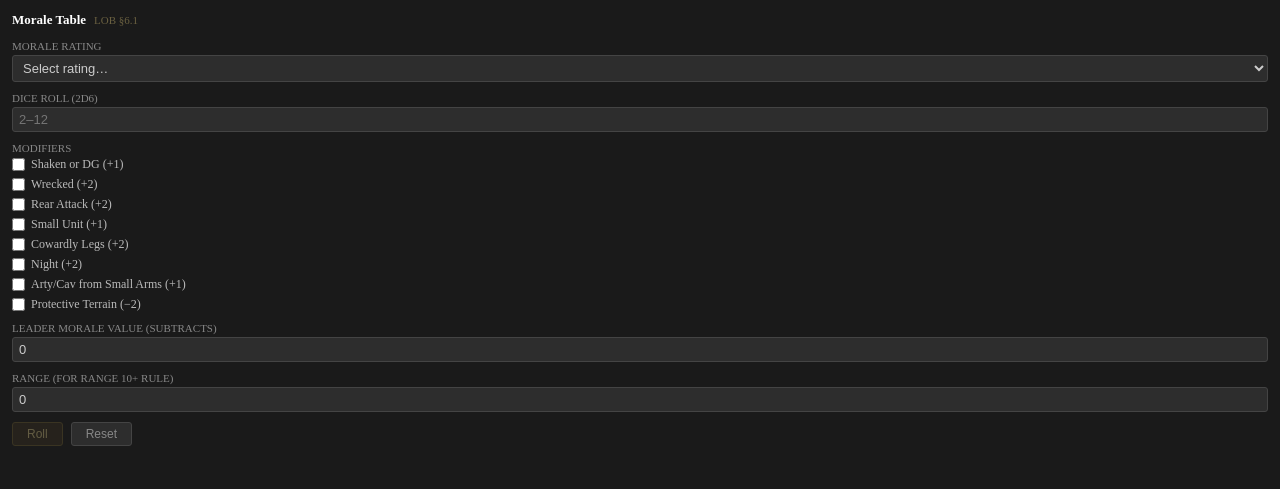
Test: MoralePanel › displays error on fetch failure
Select "C" in the dropdown labelled "Morale Rating" at (640, 68), box [12,55,1268,82]
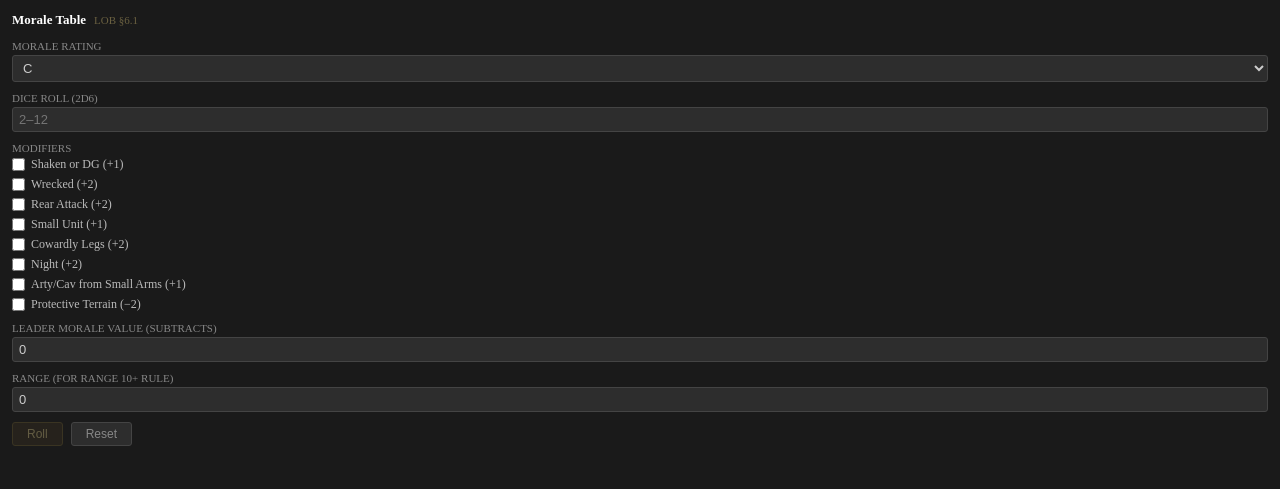
Type "8" into the number field with placeholder "2–12" at (640, 120), box [12,107,1268,132]
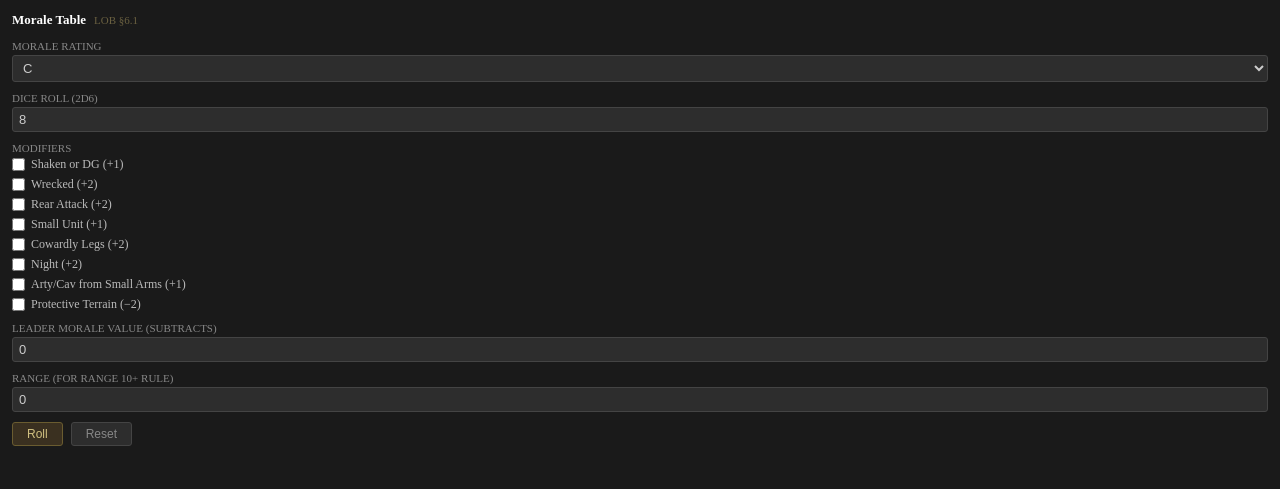
Click the button "Roll" at (37, 434), box [12,422,63,446]
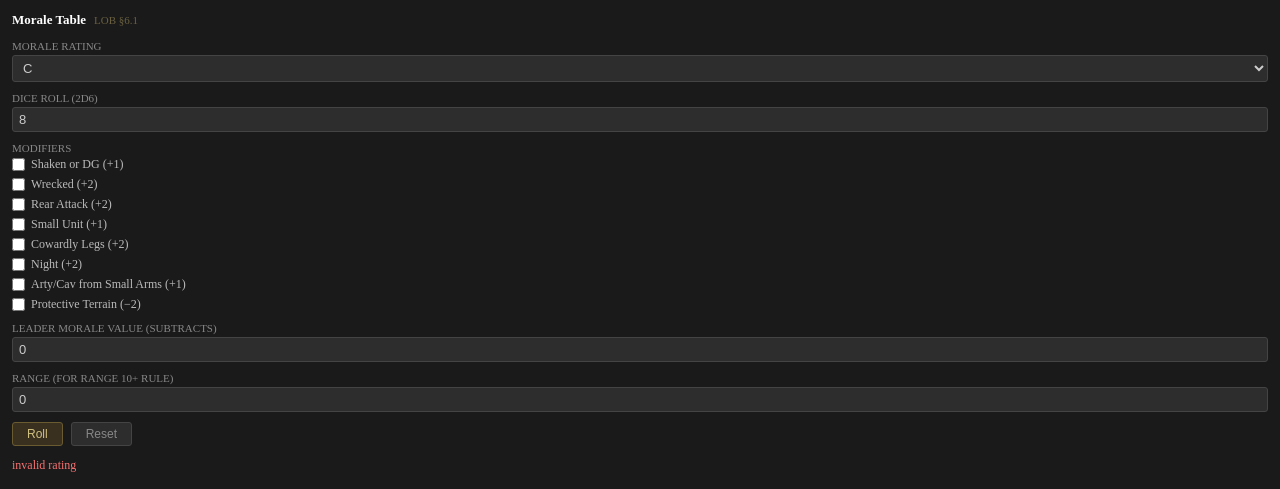
Now the text "invalid rating" is shown, box [12,458,76,472]
